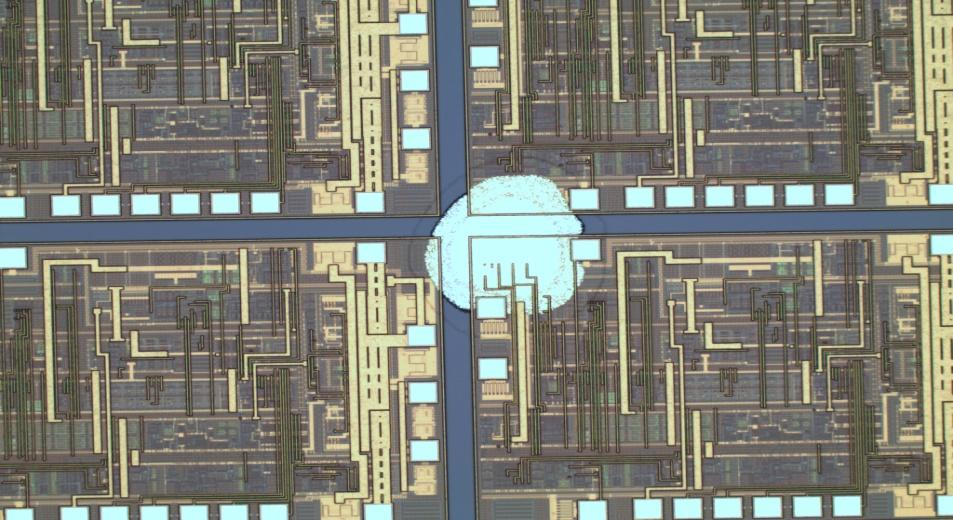BLOCK ETCH: (401, 150, 621, 346)
